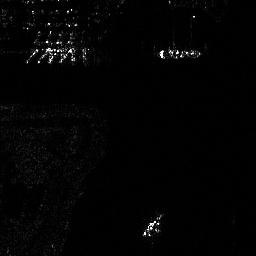ship: (158, 46, 202, 61)
